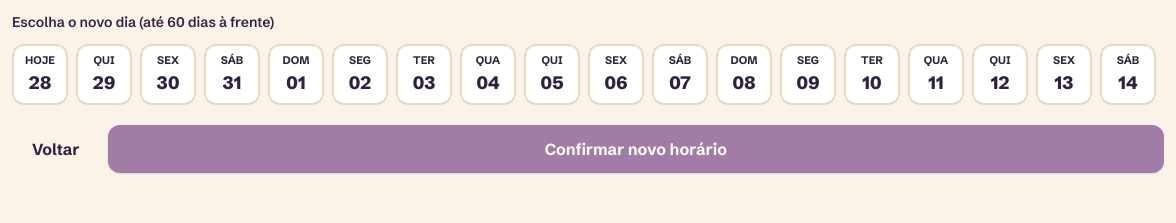
ReschedulePicker › dia sem vaga avisa
The width and height of the screenshot is (1176, 223).
Click the button with aria-label "Novo dia 29/10" at x=104, y=74, box [76,44,132,104]
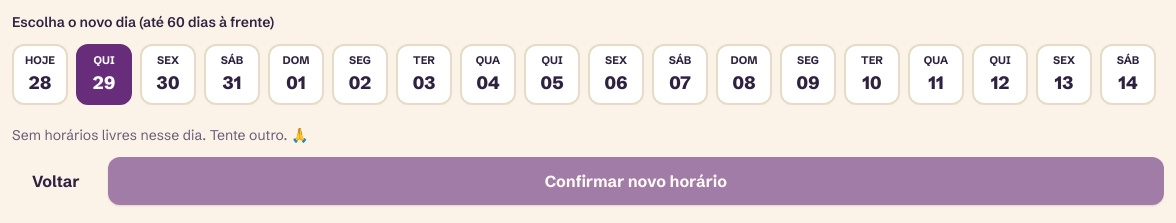
Now the text "Sem horários livres nesse dia. Tente outro. 🙏" is shown, box [12,126,308,144]
